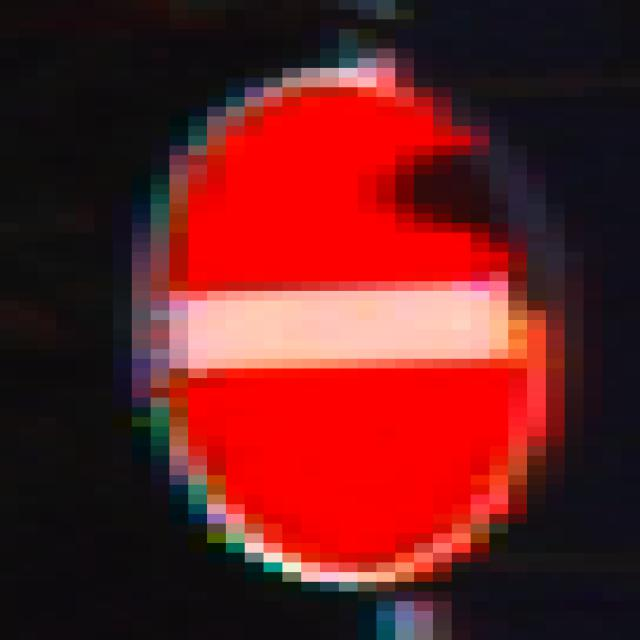No Entry: (114, 59, 528, 583)
